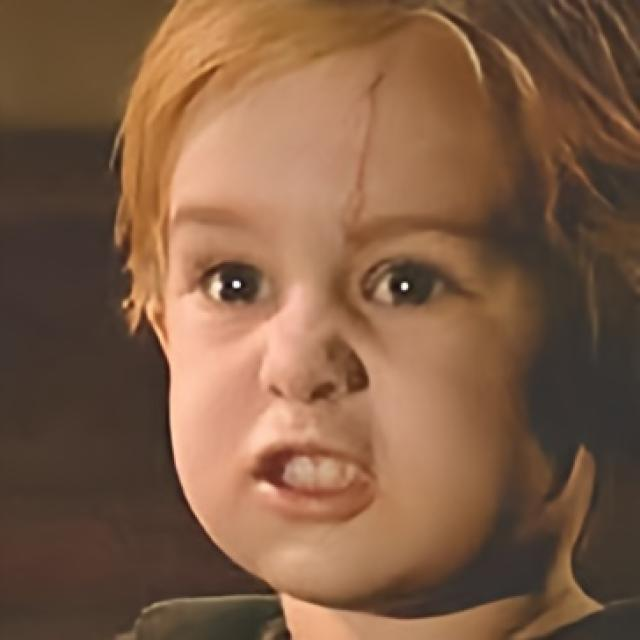disgust: (158, 12, 552, 612)
